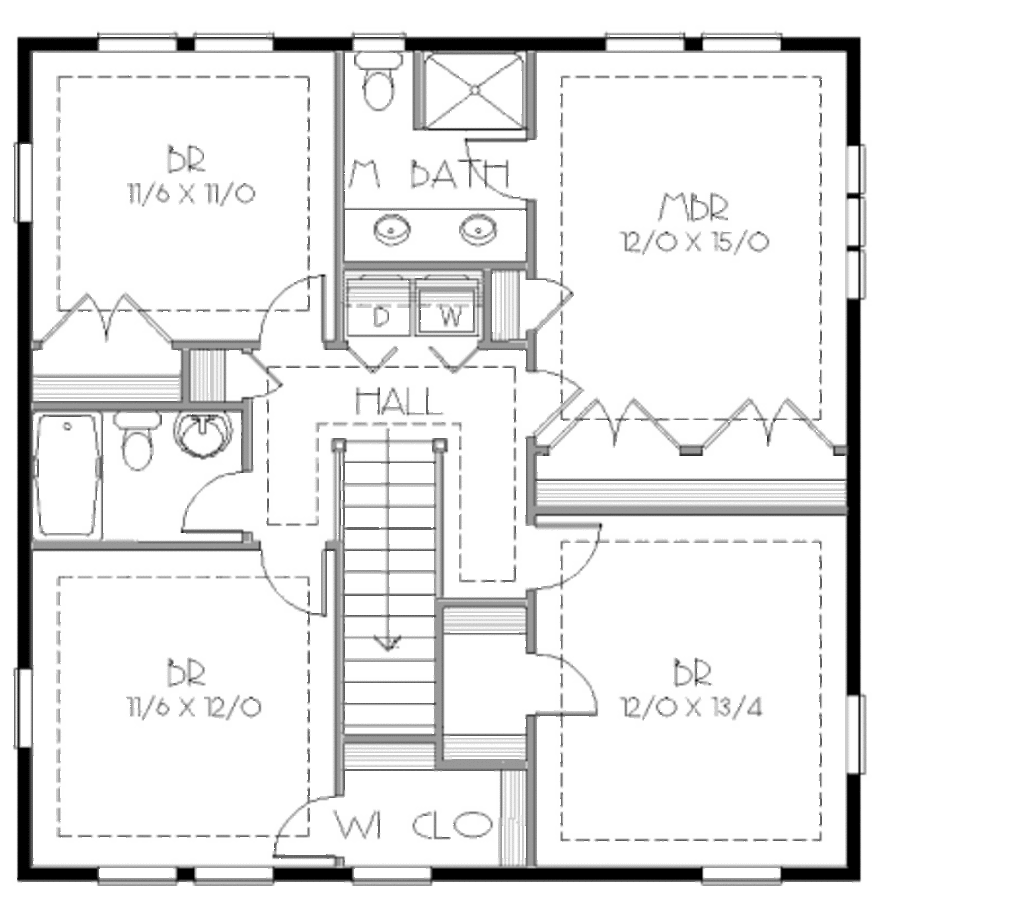door: (554, 388, 690, 452), (37, 289, 176, 350), (706, 393, 834, 456), (175, 464, 261, 539), (250, 271, 330, 349), (250, 539, 323, 614), (530, 521, 609, 585), (466, 130, 535, 200), (533, 649, 600, 721), (534, 367, 584, 432), (234, 343, 287, 403), (525, 277, 575, 332)
large_sink: (352, 36, 409, 117), (101, 404, 163, 474)
small_sink: (345, 200, 525, 274), (175, 414, 247, 461)
stairs: (326, 424, 448, 771)
tub: (26, 411, 98, 538)
window: (193, 24, 279, 59), (694, 22, 787, 53), (350, 860, 443, 889), (101, 24, 183, 56), (843, 192, 879, 253), (844, 692, 870, 775), (12, 142, 37, 221), (843, 246, 876, 302), (602, 31, 687, 52), (701, 863, 786, 882), (844, 139, 872, 196), (16, 668, 31, 743)
